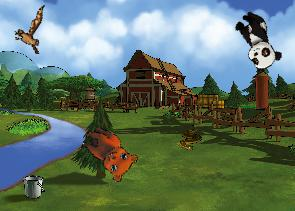bear: (72, 122, 142, 185)
eagle: (9, 5, 53, 58)
panda: (228, 7, 285, 74)
